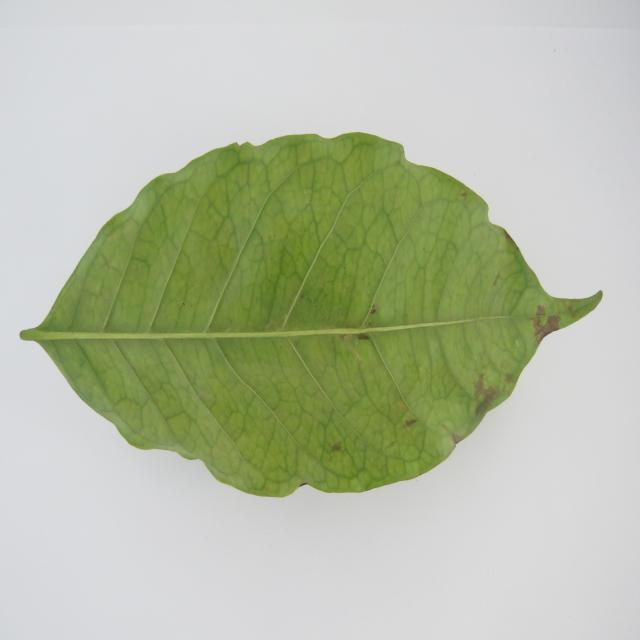DeficienciaNutricional-Calcio: (21, 133, 602, 497)
